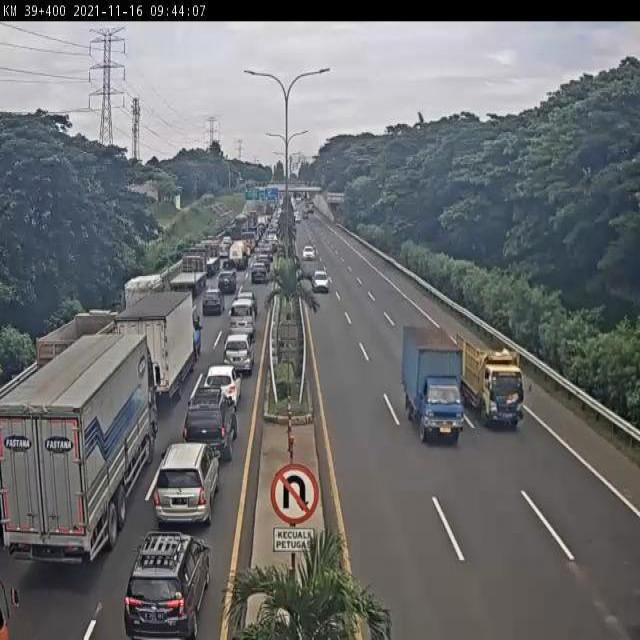car: (123, 524, 225, 640), (147, 447, 228, 529), (188, 378, 240, 453), (219, 317, 258, 379), (205, 358, 241, 406), (230, 298, 267, 338), (217, 266, 244, 294), (310, 266, 333, 298), (204, 290, 230, 314), (304, 238, 321, 266)
small truck: (461, 338, 529, 433)
truck-l-: (0, 335, 159, 565), (169, 248, 208, 299)
truck-m-: (34, 307, 128, 408), (109, 298, 200, 398), (400, 325, 468, 452)
